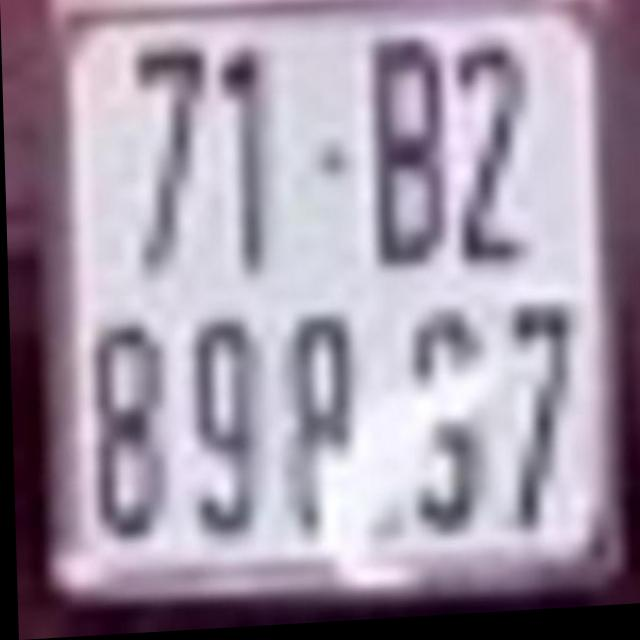1: (217, 46, 263, 271)
2: (455, 37, 526, 272)
7: (130, 44, 206, 279), (504, 305, 572, 528)
8: (286, 315, 354, 546), (92, 329, 161, 536)
9: (405, 309, 493, 534), (194, 320, 254, 534)
B: (371, 42, 448, 267)
